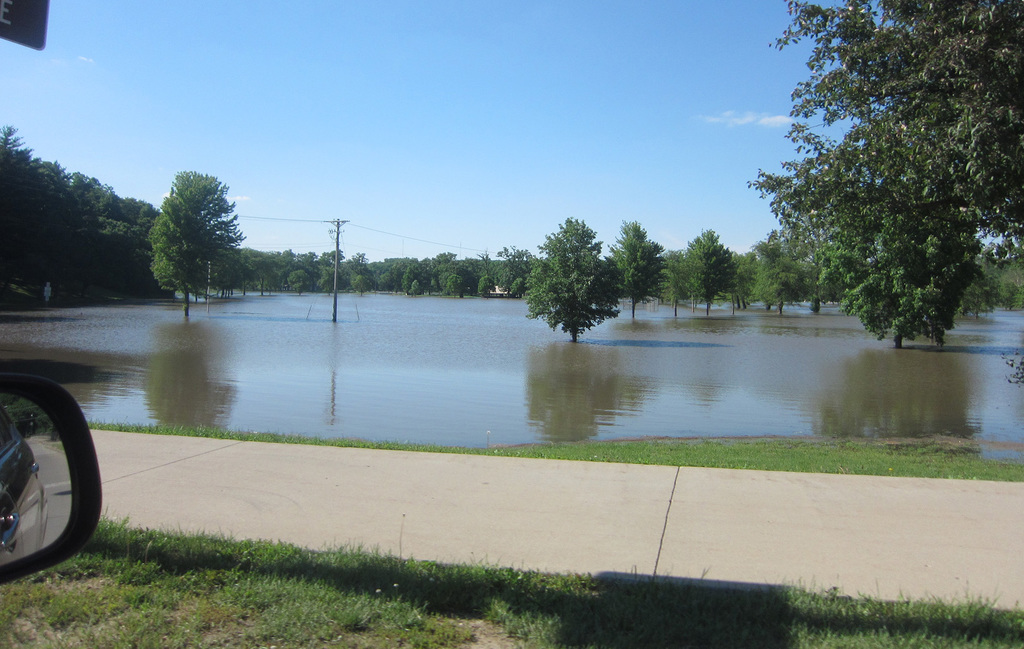Tree: (0, 119, 752, 343), (751, 0, 1023, 349), (136, 156, 243, 316)
